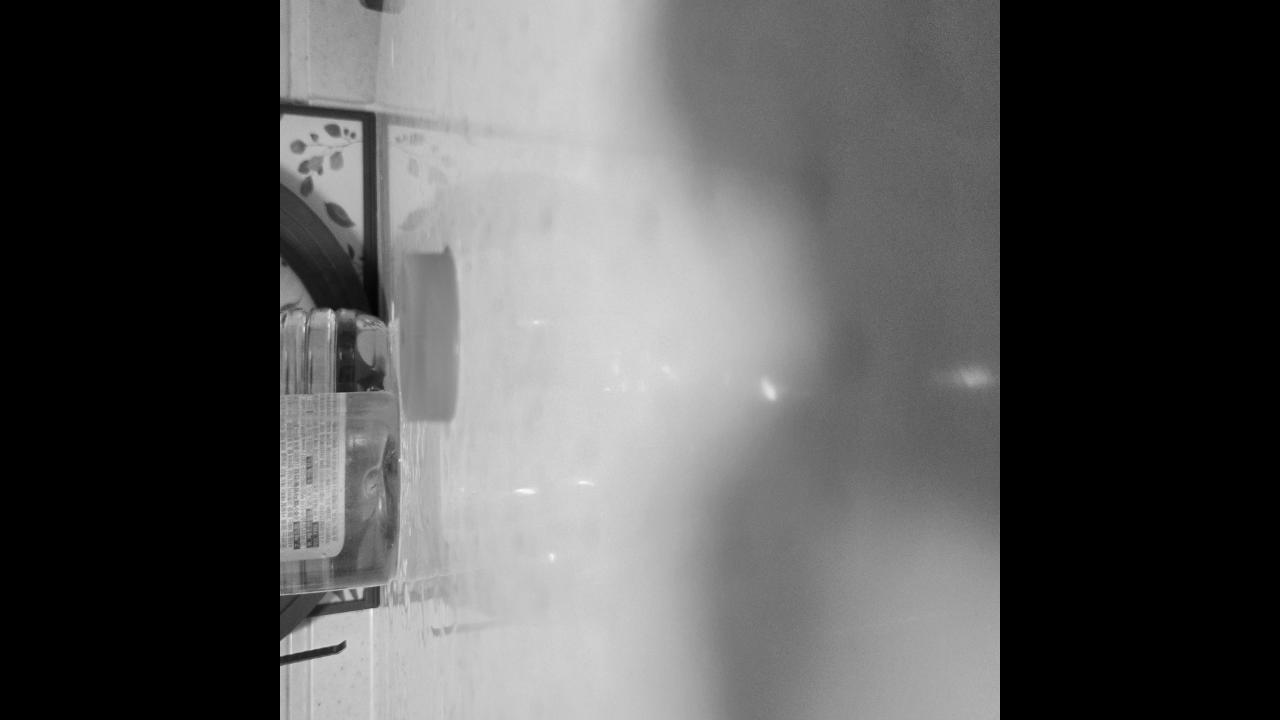bottle_cap: (396, 246, 464, 424)
